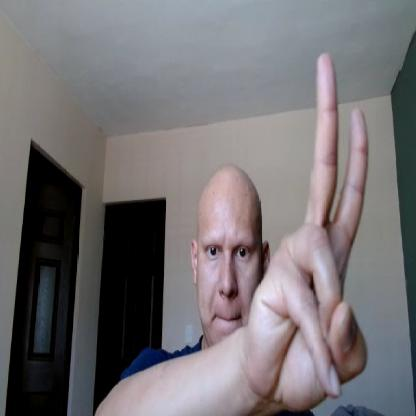V: (252, 49, 369, 406)
